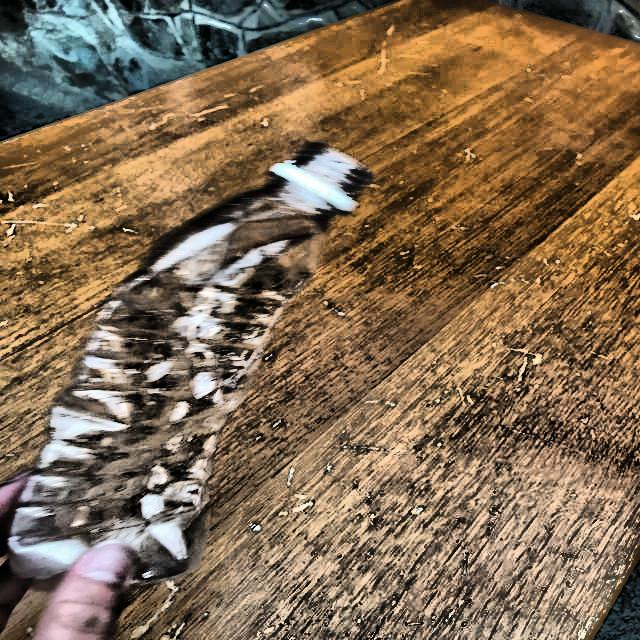plastic bottle: (7, 143, 372, 584)
